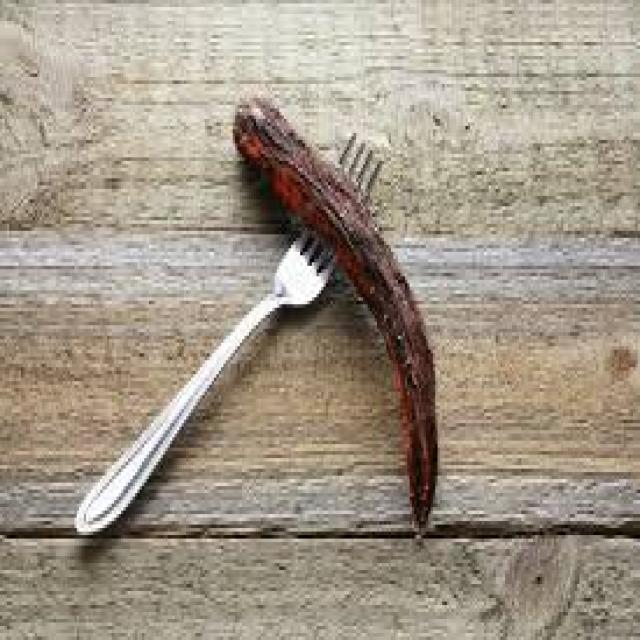Stale_Carrot: (234, 100, 437, 527)
